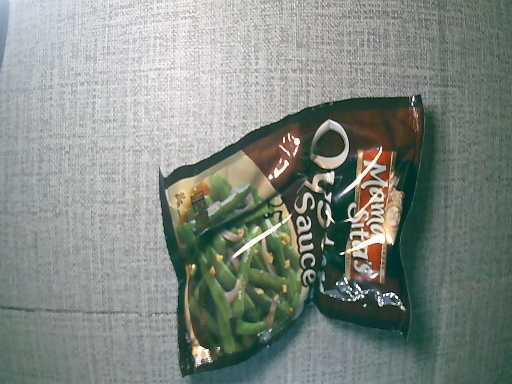plastic: (160, 94, 425, 384)
